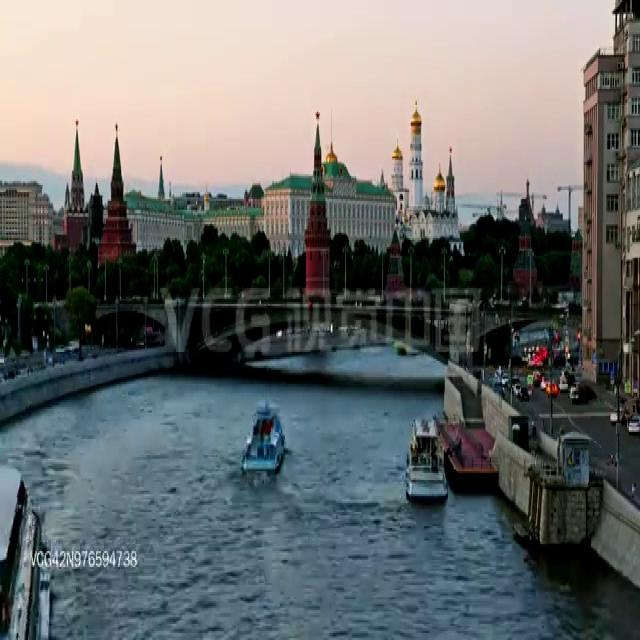passenger ship: (404, 414, 448, 501), (240, 404, 285, 476)
